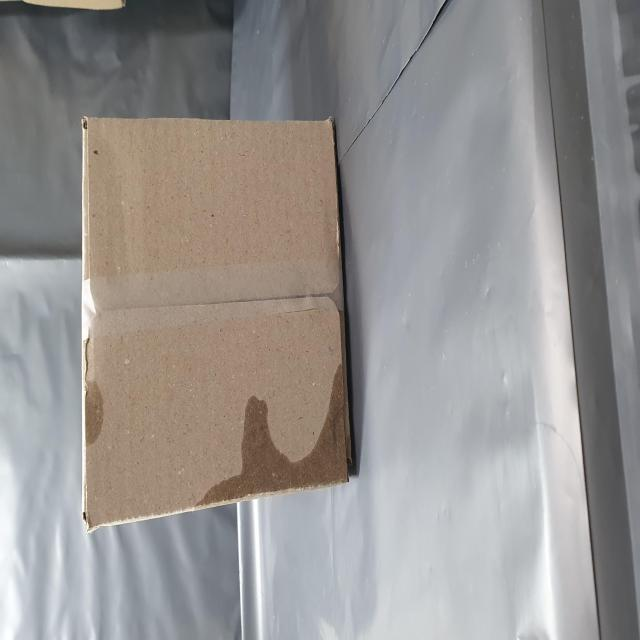wet: (67, 362, 162, 626)
